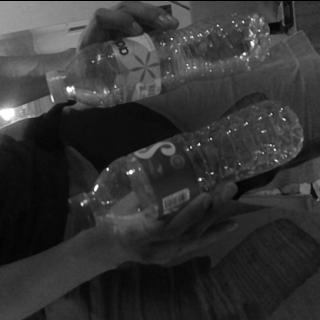plastic_bottles: (64, 100, 306, 224), (40, 5, 268, 110)
